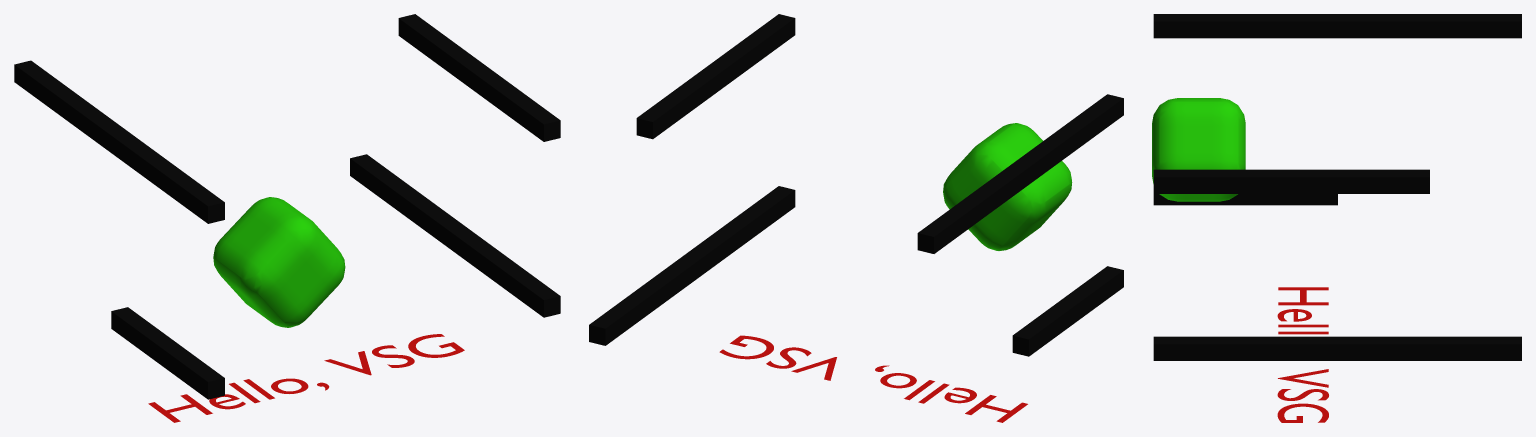
The model's file is world.obj.
3 views of the same model, side by side, from view 1: azimuth 30°, elevation 25°; view 2: azimuth 150°, elevation 25°; view 3: azimuth 270°, elevation 25° (orthographic). The views are drawn at different scales.
Parts seen in each view (by area): view 1: Mball, Cube, Cube.001, Cube.003, Cube.002, Text; view 2: Mball, Cube.001, Cube, Cube.003, Cube.002, Text; view 3: Cube, Cube.001, Mball, Cube.003, Text, Cube.002.
Part boxes in pixels (x1,y1,x2,y2): Mball: (213, 197, 345, 327); Cube: (14, 60, 224, 223); Cube.001: (350, 154, 560, 317); Cube.003: (398, 14, 560, 141); Cube.002: (111, 307, 224, 399); Text: (148, 334, 464, 422); Mball: (943, 123, 1072, 250); Cube.001: (589, 186, 795, 345); Cube: (917, 94, 1123, 253); Cube.003: (636, 14, 795, 139); Cube.002: (1012, 266, 1123, 356); Text: (719, 335, 1027, 422); Cube: (1153, 14, 1521, 38); Cube.001: (1153, 336, 1521, 360); Mball: (1152, 98, 1245, 201); Cube.003: (1153, 169, 1429, 193); Text: (1277, 287, 1328, 422); Cube.002: (1153, 194, 1337, 205).
Size of the model in its own units: 4.2 by 3.1 by 4.02.
